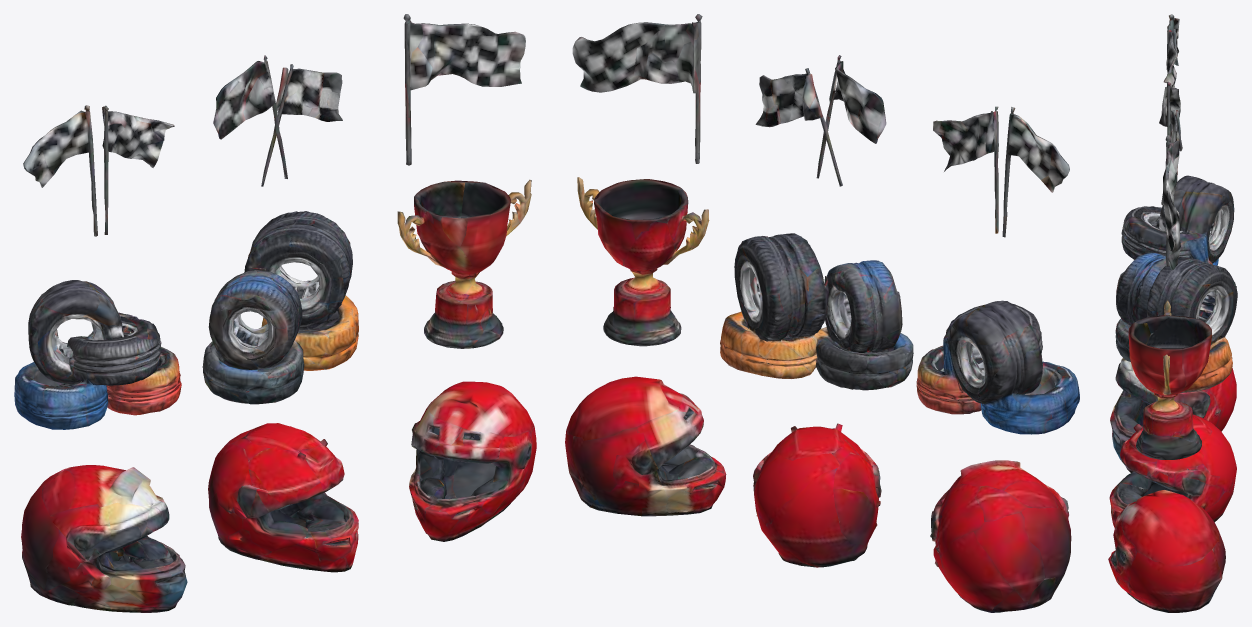
The picture shows the model from 3 angles, left to right: view 1: azimuth 30°, elevation 25°; view 2: azimuth 150°, elevation 25°; view 3: azimuth 270°, elevation 25°; orthographic projection. The views are drawn at different scales.
Bounding box in the file's own units: 1.9 × 1.87 × 0.4896.
Materials: 1 (1 with a texture image).
